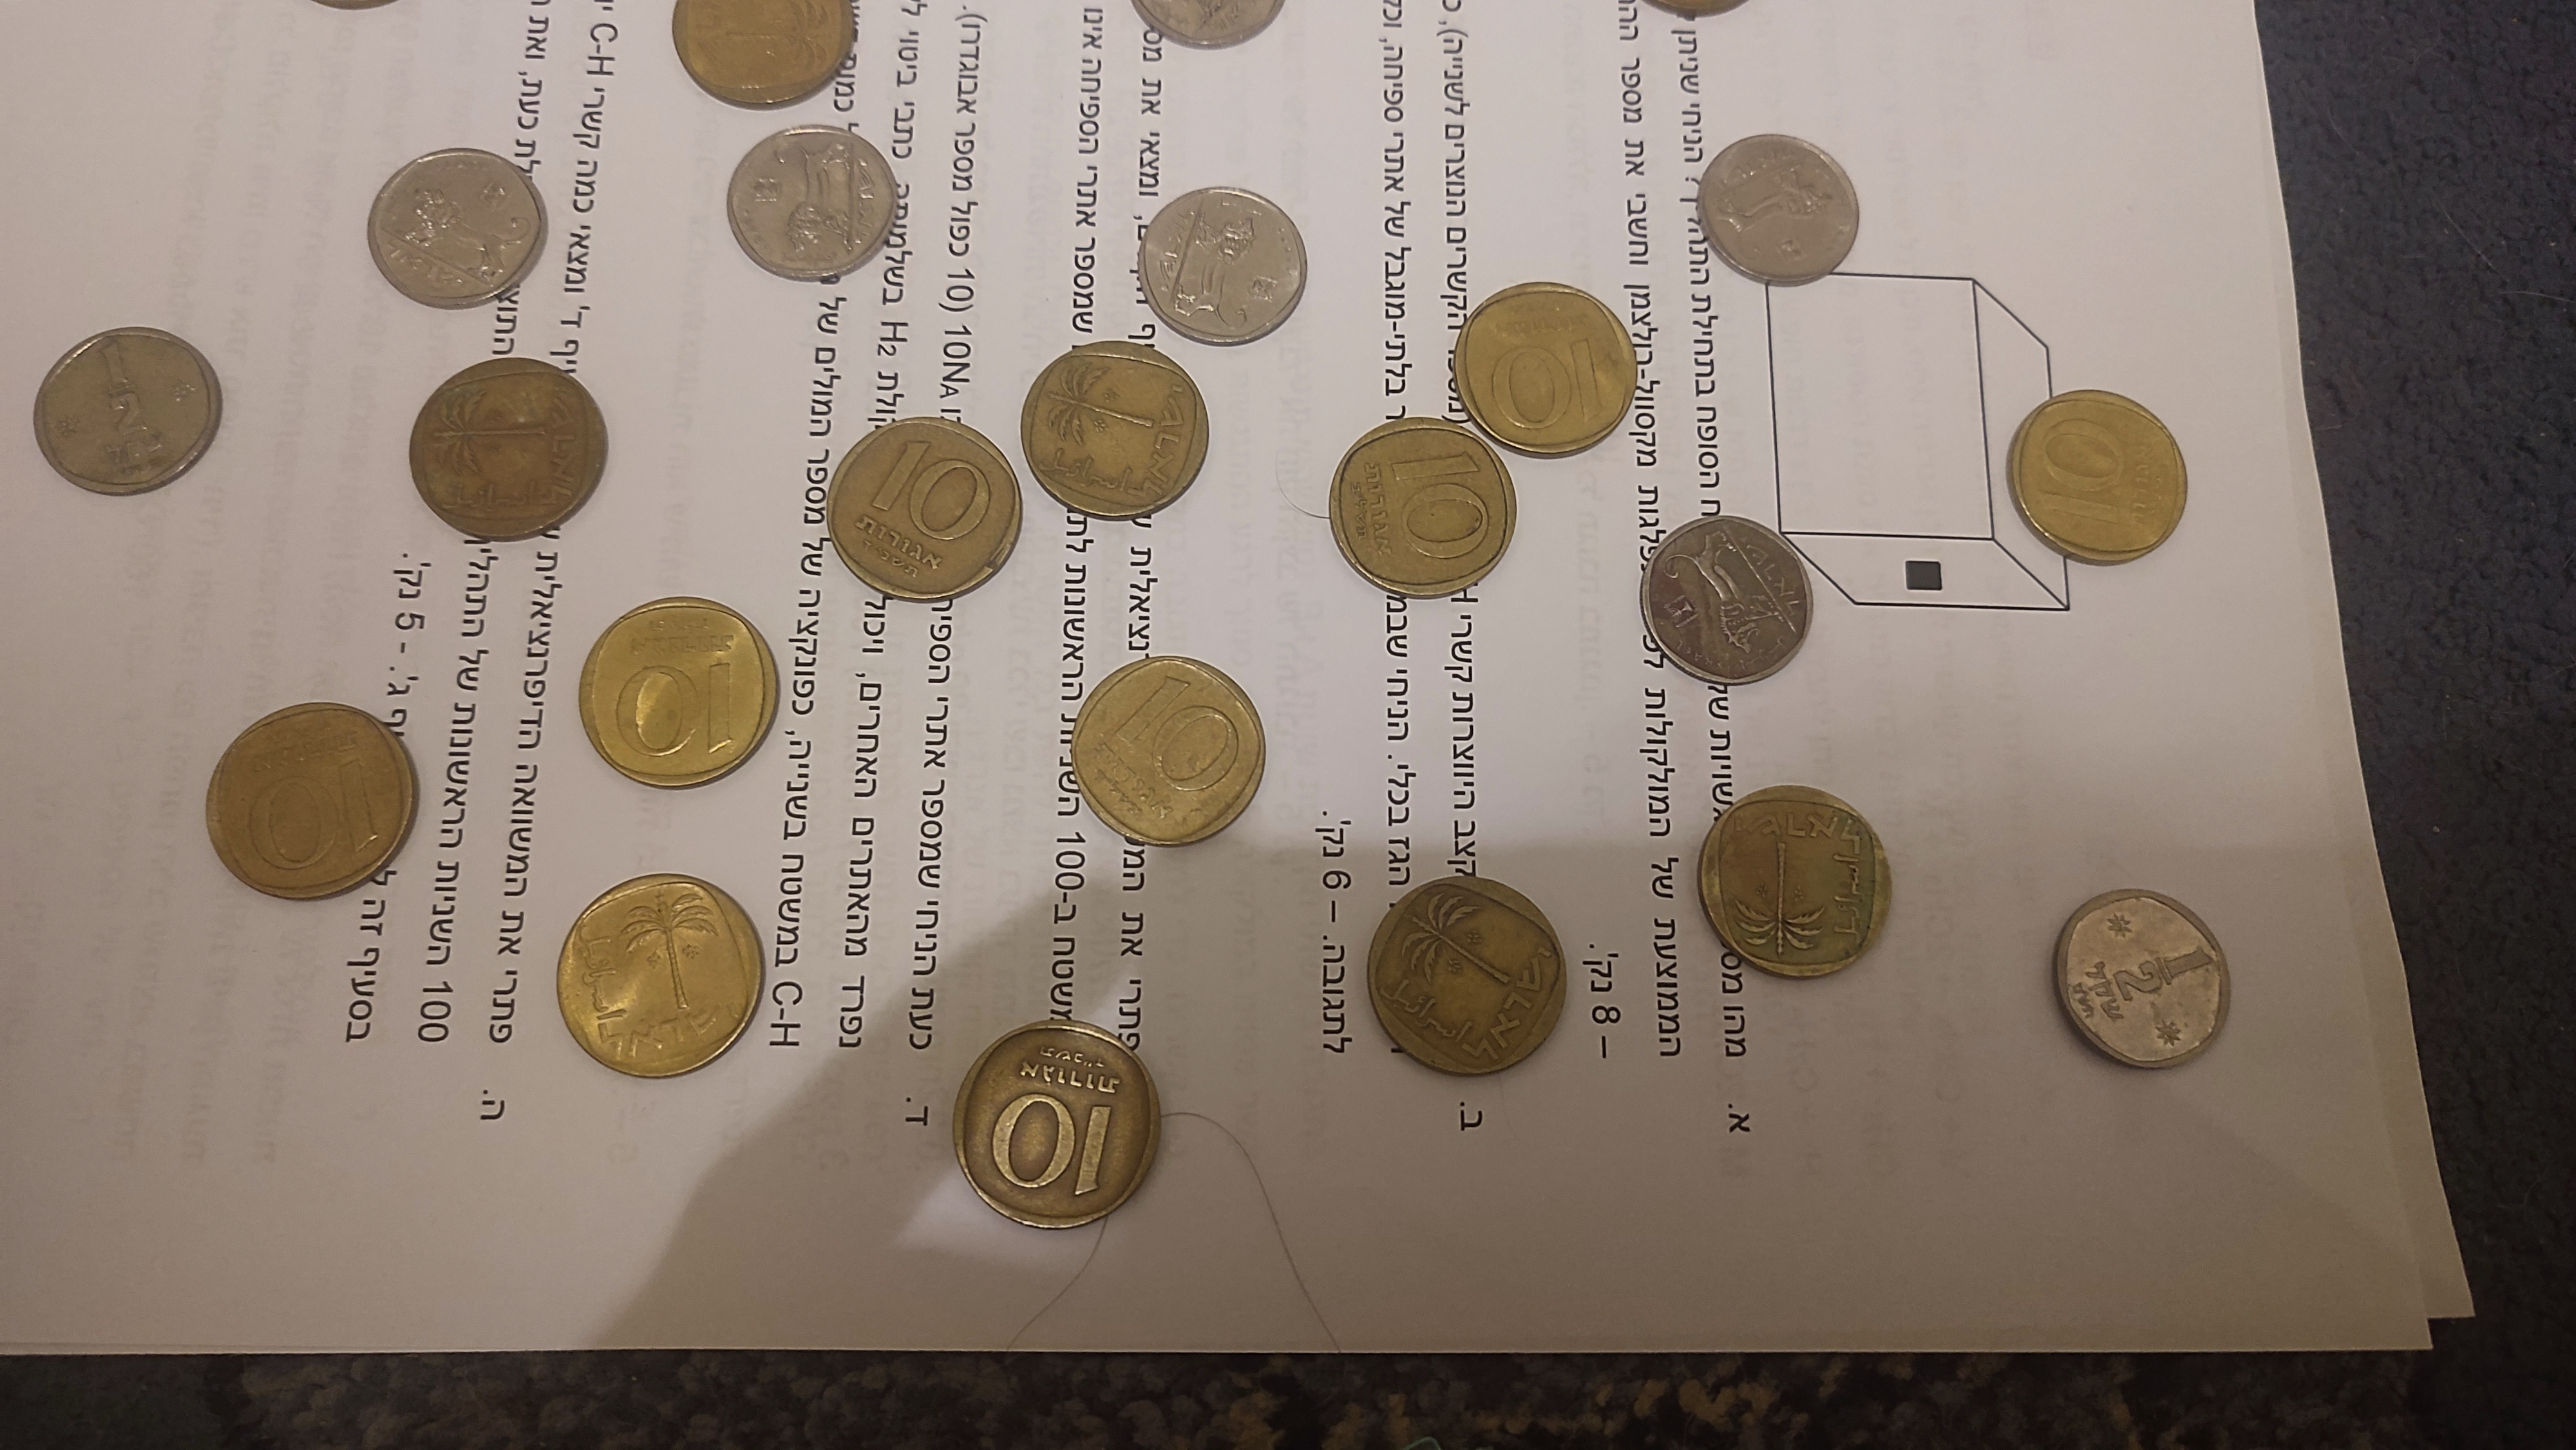1/2 old sheqel: (2049, 886, 2238, 1075), (32, 324, 230, 502), (1637, 511, 1815, 688), (364, 145, 550, 313), (1134, 182, 1309, 350), (724, 124, 901, 285), (1695, 131, 1861, 288)
10 old agora brown: (947, 1017, 1164, 1238), (200, 698, 426, 907), (552, 870, 768, 1082), (1362, 875, 1569, 1080), (577, 594, 786, 796), (405, 354, 617, 552), (1693, 782, 1897, 987), (819, 410, 1026, 608), (1065, 651, 1269, 851), (1017, 338, 1215, 525), (1325, 414, 1523, 601), (1447, 279, 1644, 465), (2001, 385, 2192, 569), (665, 0, 860, 113)
